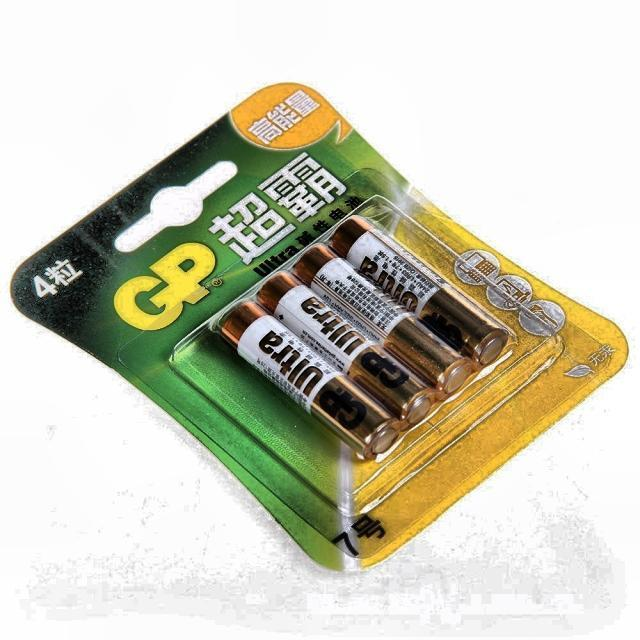battery: (220, 301, 404, 459), (258, 271, 435, 426), (294, 244, 472, 396), (330, 215, 508, 367)
